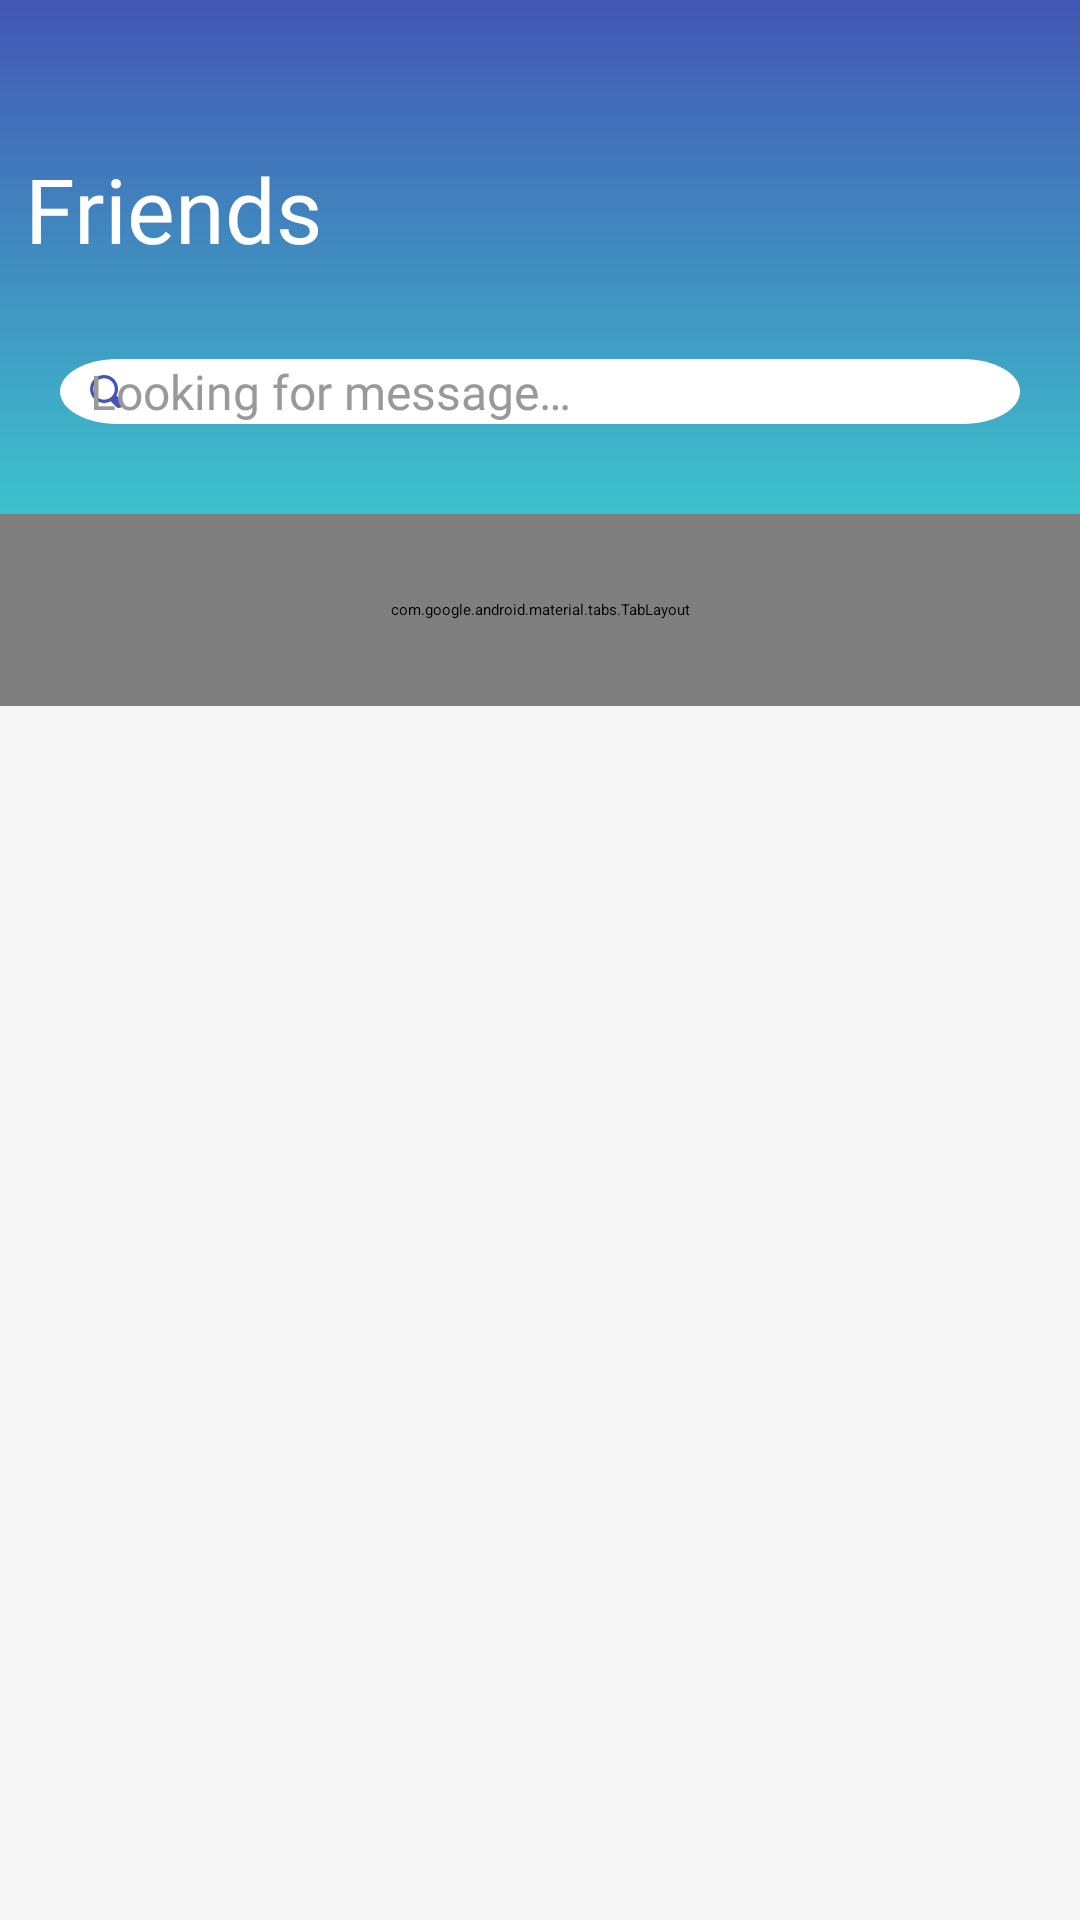

Screen size 1080w x 1920h. Icon name, then its box in pixels as BBox(x1, y1, x2, y2):
search: BBox(90, 375, 123, 408)
